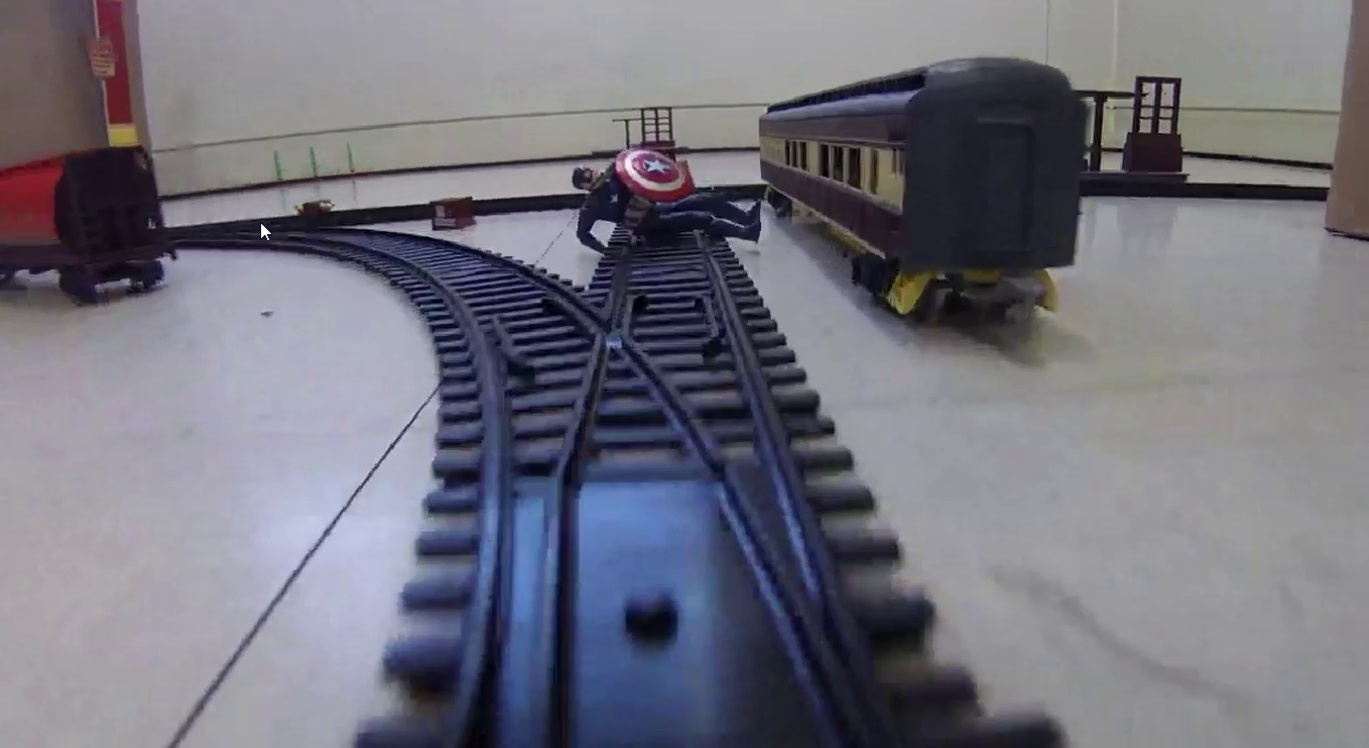box: (427, 197, 476, 231)
people: (575, 150, 763, 248)
